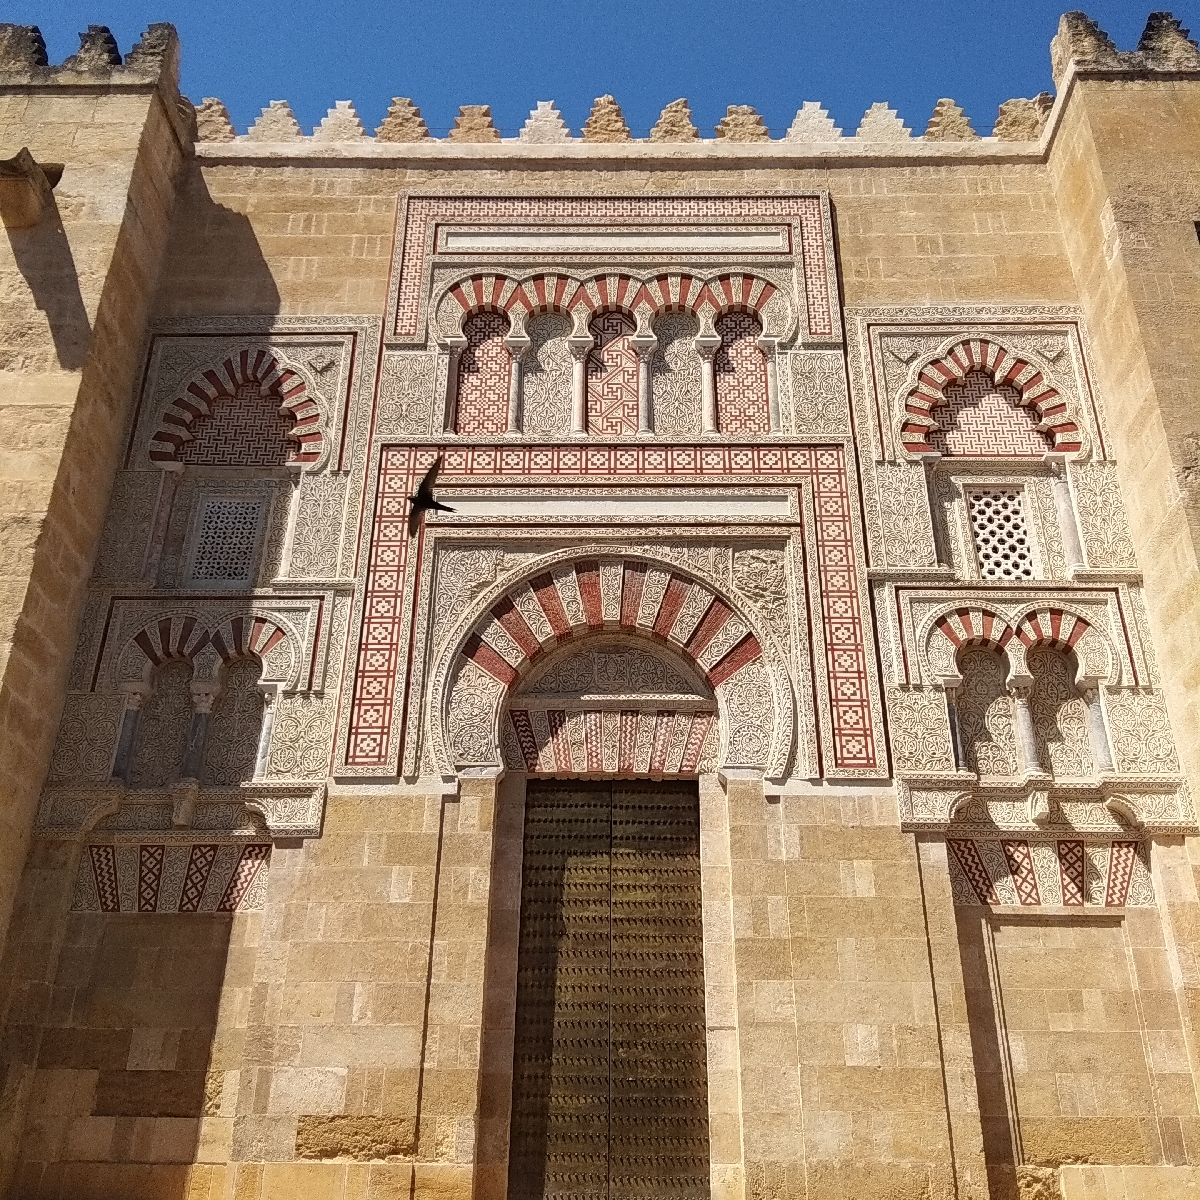arco-herradura: (476, 605, 743, 801), (943, 627, 1022, 711), (203, 644, 275, 715), (134, 642, 203, 715), (1021, 633, 1090, 705), (448, 295, 516, 359), (580, 295, 644, 359), (707, 300, 769, 358), (518, 298, 576, 352), (644, 305, 699, 355)
arco-lobulado: (916, 351, 1058, 477), (167, 368, 304, 489)
dintel-adovelado: (938, 830, 1149, 915), (65, 837, 279, 913)
